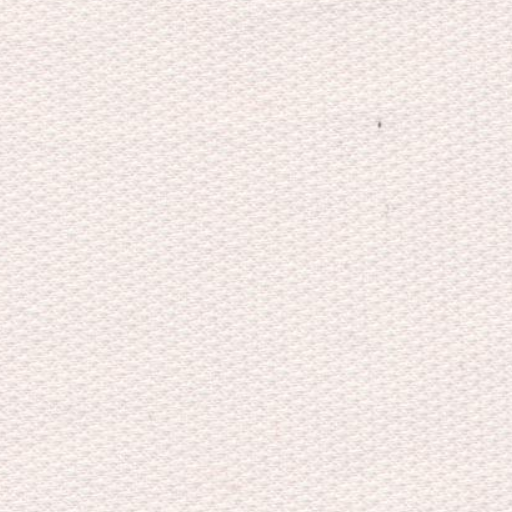WuZi: (348, 96, 408, 142)
